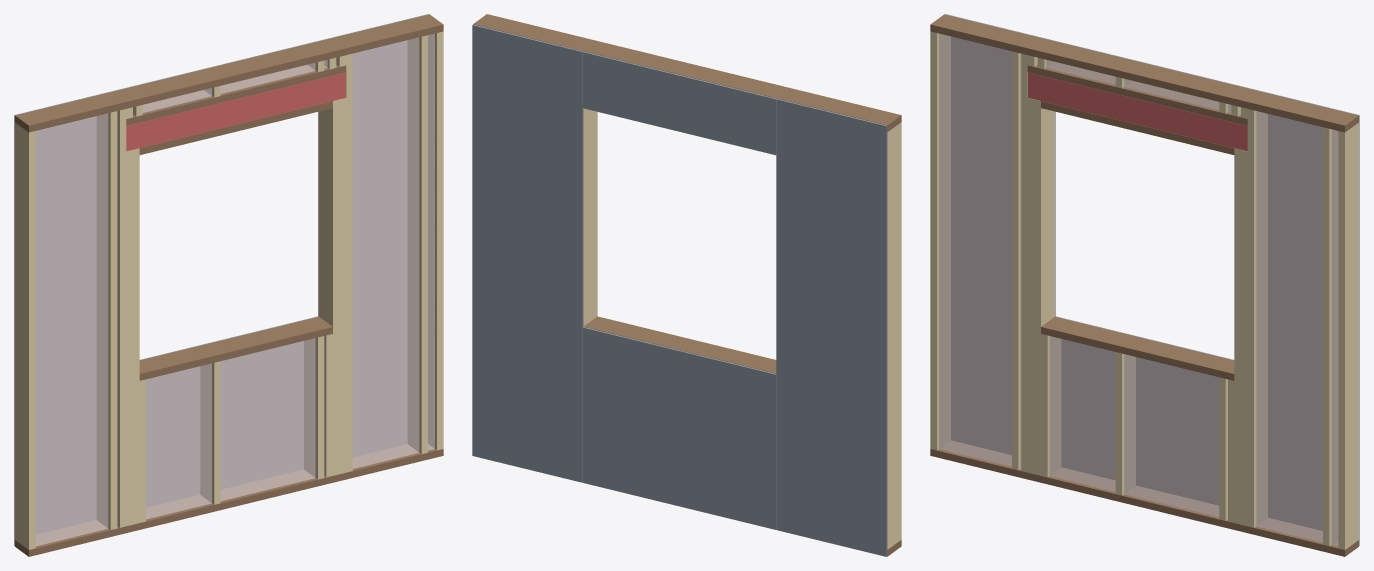
3 renders of one model, left to right at view 1: azimuth 30°, elevation 25°; view 2: azimuth 150°, elevation 25°; view 3: azimuth 330°, elevation 25°, orthographic.
Parts seen in each view (by area): view 1: EX5 GF; view 2: EX5 GF; view 3: EX5 GF.
Part boxes in pixels (box(x1,y1,x2,y2)): EX5 GF: box(14, 14, 443, 556); EX5 GF: box(472, 14, 901, 556); EX5 GF: box(930, 14, 1359, 556).
Bounding box in the file's own units: 2.4 × 2.39 × 0.149.
